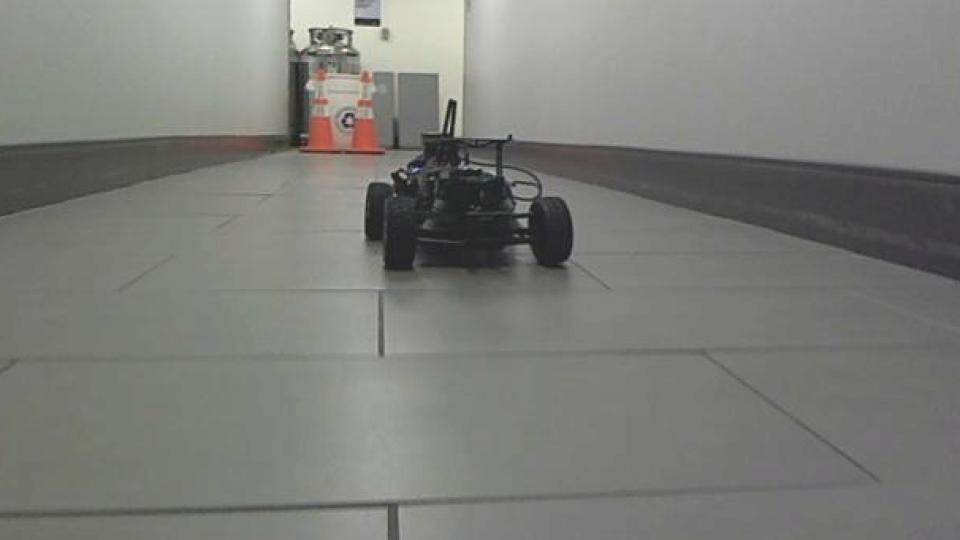car: (361, 97, 578, 275)
